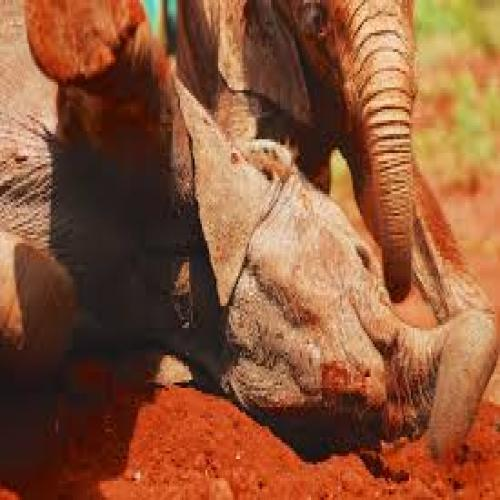asian_elephant-endangered: (0, 11, 487, 481), (171, 0, 412, 302)
